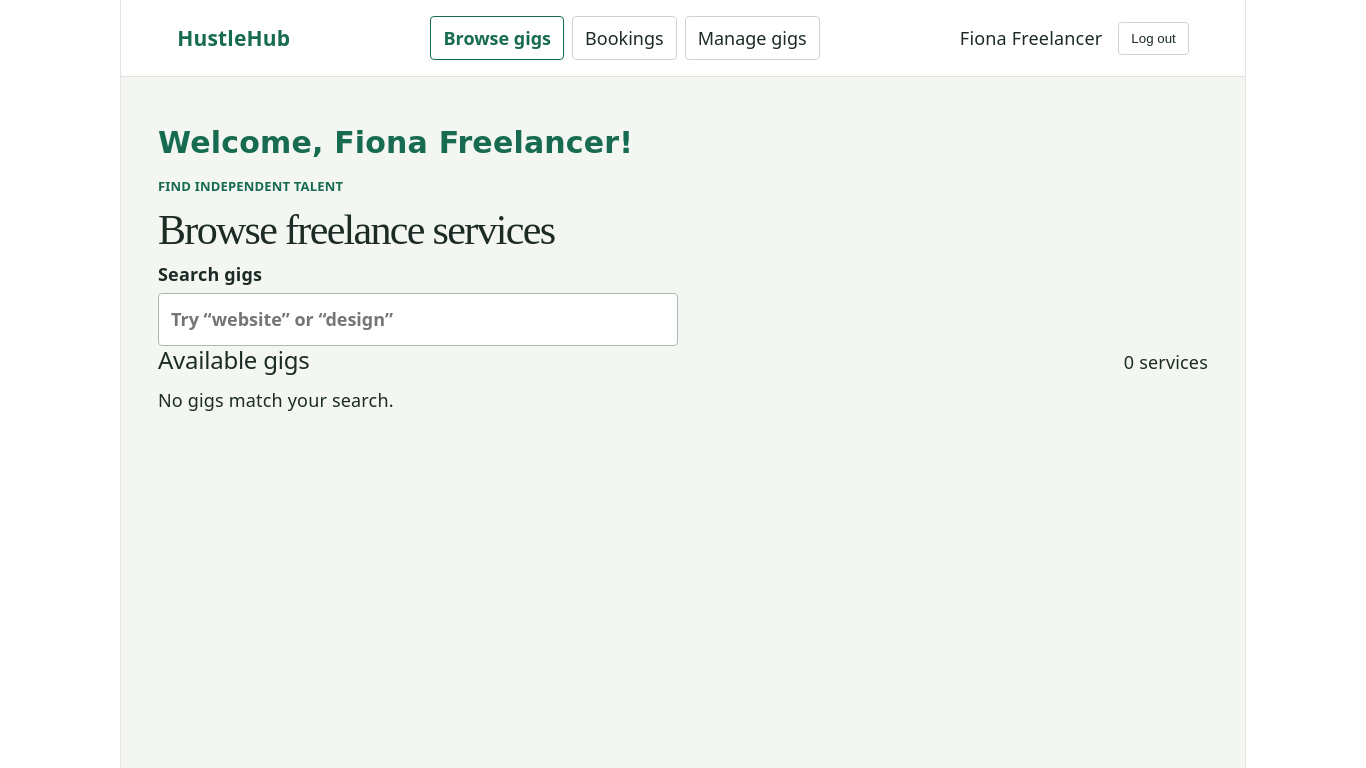
Test case: GigBrowser booking flow › a freelancer sees which client booked their gig
Click the button "Bookings" at (624, 38), box [572,16,677,60]
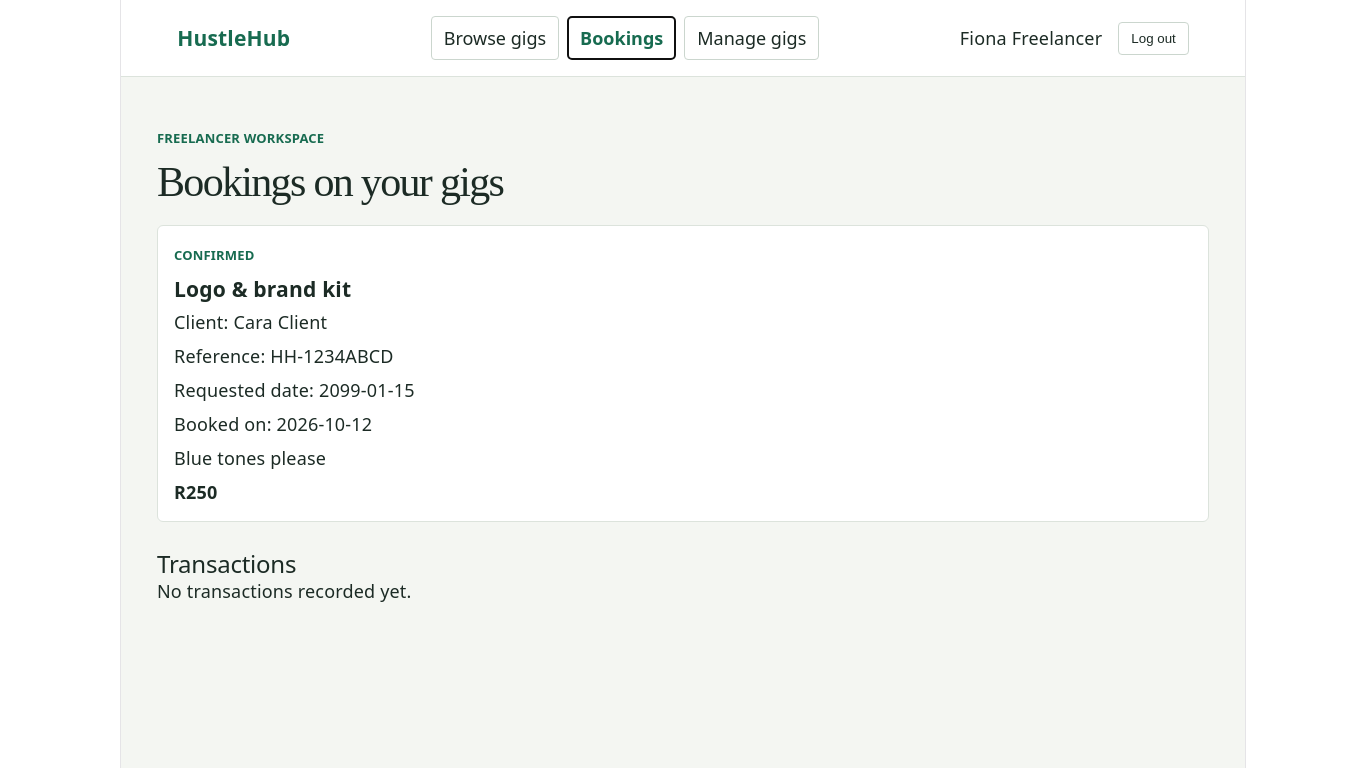
Expected: the text "Client: Cara Client" is shown, [174,310,327,334]
Expected: the text "Reference: HH-1234ABCD" is shown, [174,343,415,369]
